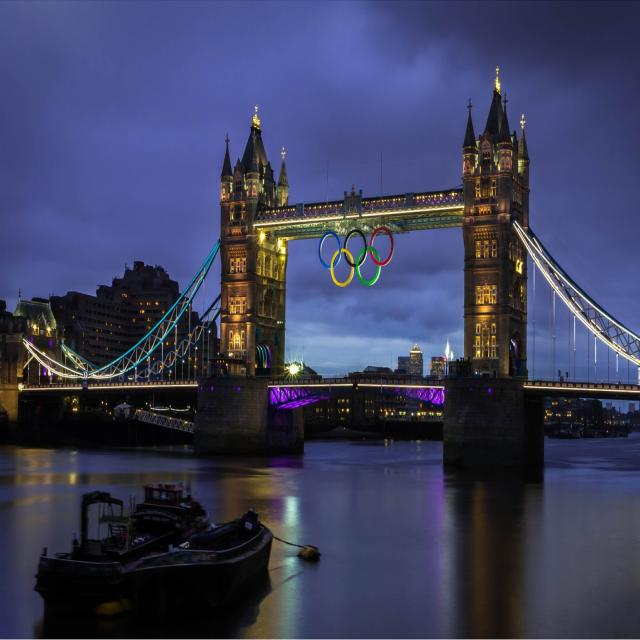Boat: (13, 470, 303, 640)
